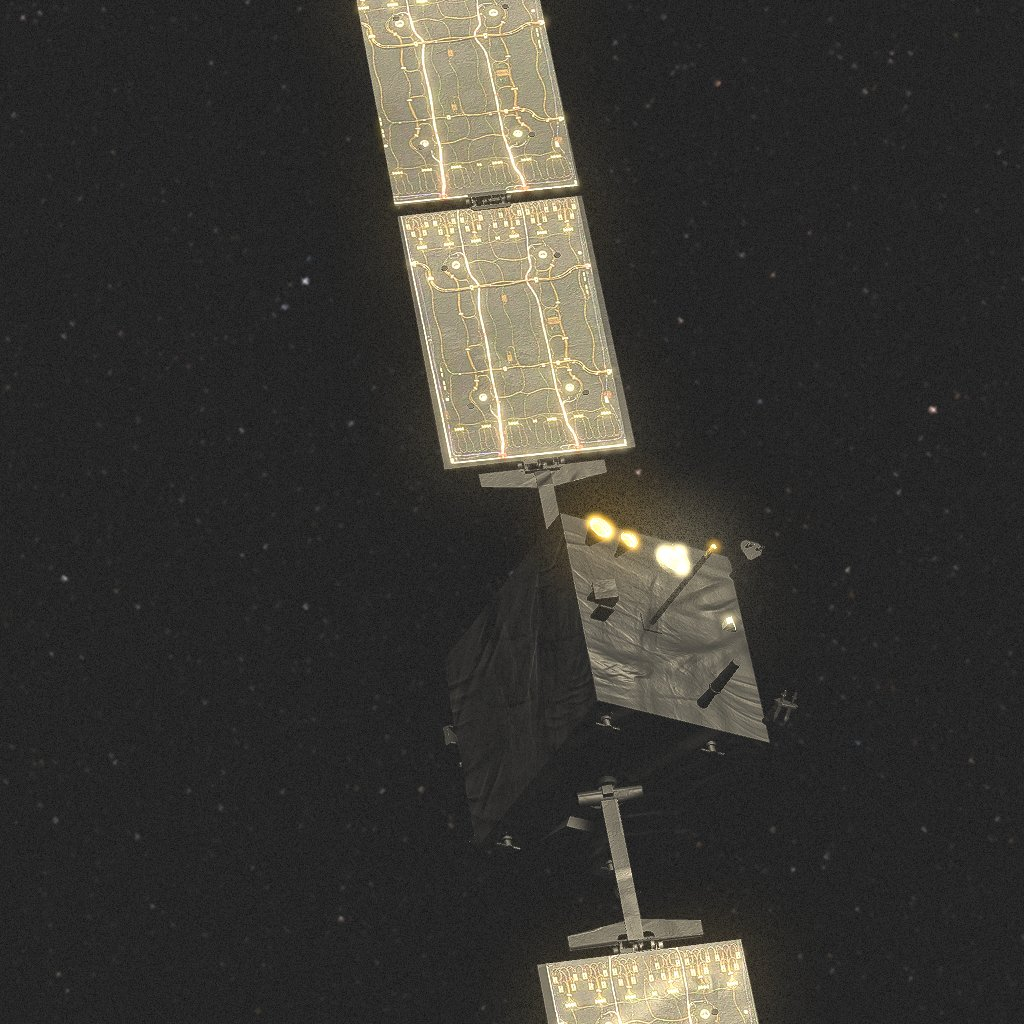smart_1: (297, 12, 784, 1002)
